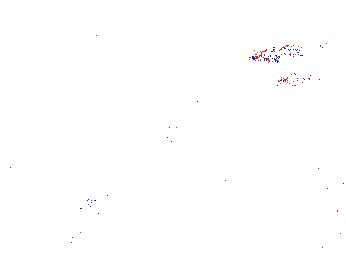glassfish: (64, 169, 122, 256), (148, 122, 249, 163)
red belly glassfish: (285, 41, 336, 56), (274, 71, 317, 87), (249, 49, 283, 62)
